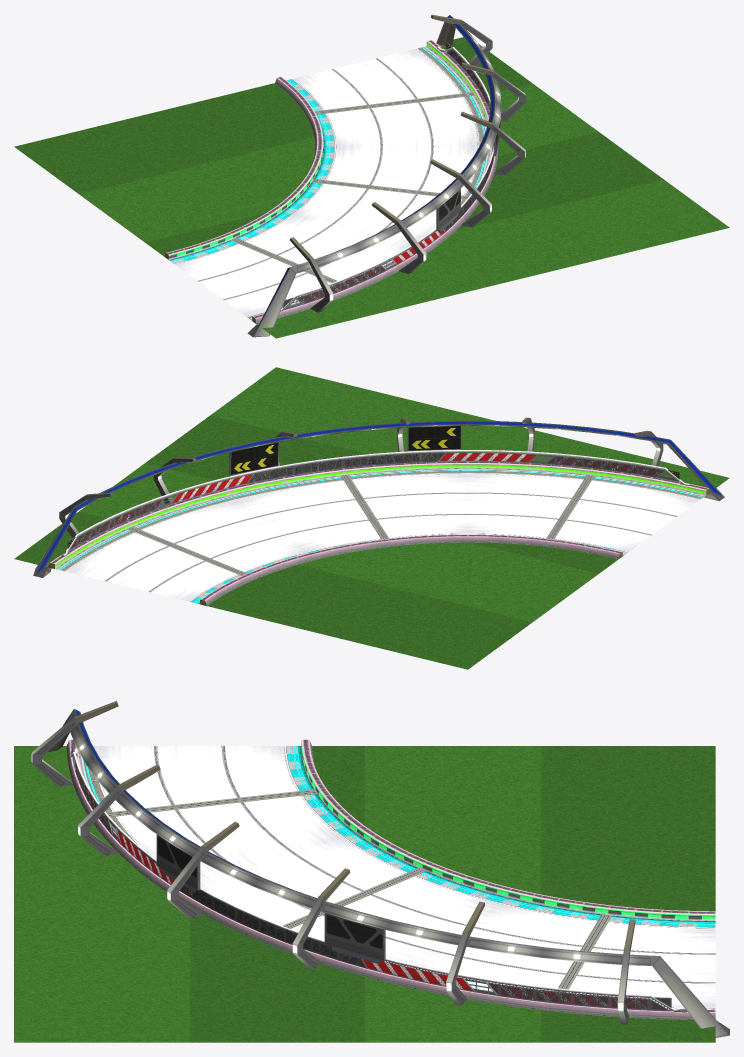
Rendered from T37 - Magnetic - Ground.fbx.
3 views of the same model, one above another, from view 1: azimuth 30°, elevation 25°; view 2: azimuth 150°, elevation 25°; view 3: azimuth 270°, elevation 25° (orthographic). The views are drawn at different scales.
Visible parts, largest first — view 1: standard_ground_grass1, visual_drift_road, mag_cage, wall_drift, magnetic_road_lines, standard_arrow_lefts, prop_billboard_left_1; view 2: standard_ground_grass1, visual_drift_road, wall_drift, standard_arrow_lefts, mag_cage, magnetic_road_lines, prop_billboard_left_1, prop_billboard_left; view 3: standard_ground_grass1, visual_drift_road, mag_cage, wall_drift, standard_arrow_lefts, magnetic_road_lines, prop_billboard_left, prop_billboard_left_1.
Boxes of the visible parts, x1,y1,x2,y2 form: standard_ground_grass1: (14,37,729,338); visual_drift_road: (169,46,490,320); mag_cage: (247,14,525,337); wall_drift: (165,40,498,323); magnetic_road_lines: (198,58,462,299); standard_arrow_lefts: (280,42,494,311); prop_billboard_left_1: (436,189,460,231); standard_ground_grass1: (14,367,729,669); visual_drift_road: (55,468,705,604); wall_drift: (48,461,709,605); standard_arrow_lefts: (61,450,690,556); mag_cage: (33,417,724,577); magnetic_road_lines: (105,480,677,592); prop_billboard_left_1: (407,426,461,452); prop_billboard_left: (229,442,278,475); standard_ground_grass1: (14,746,715,1042); visual_drift_road: (78,746,715,1009); mag_cage: (31,701,729,1037); wall_drift: (66,739,715,1019); standard_arrow_lefts: (70,744,687,1012); magnetic_road_lines: (115,746,715,992); prop_billboard_left: (324,913,385,963); prop_billboard_left_1: (156,834,200,892).
Bounding box in the file's own units: 13056 × 1786 × 13063.
